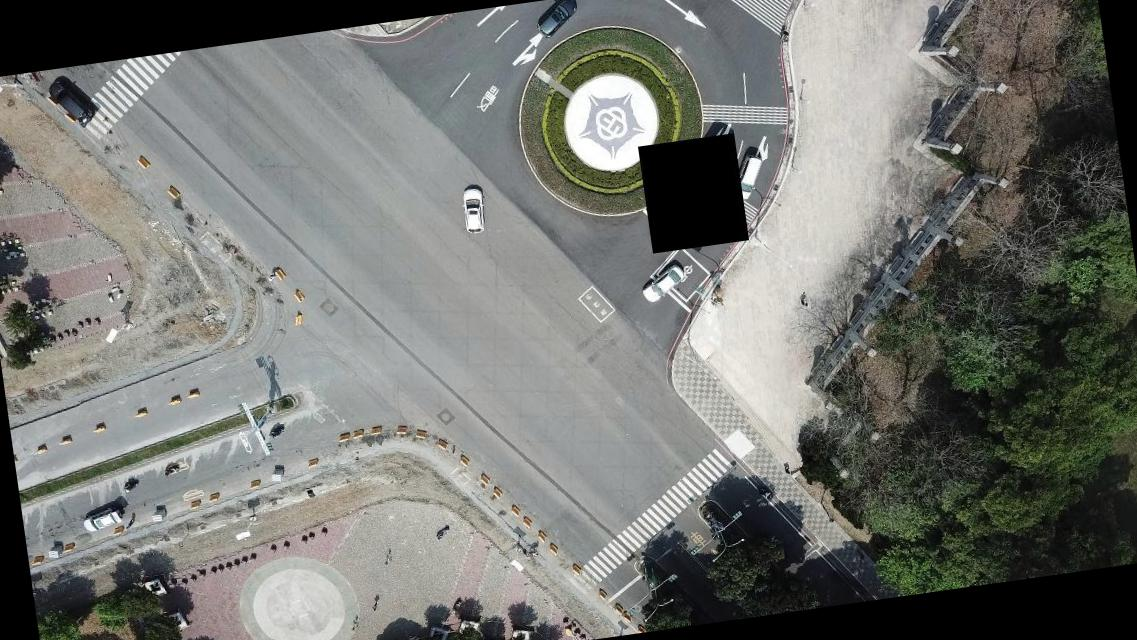vehicle: (45, 76, 96, 132), (726, 153, 767, 202), (532, 0, 581, 41), (639, 264, 686, 304), (458, 183, 489, 236), (80, 504, 124, 534)
